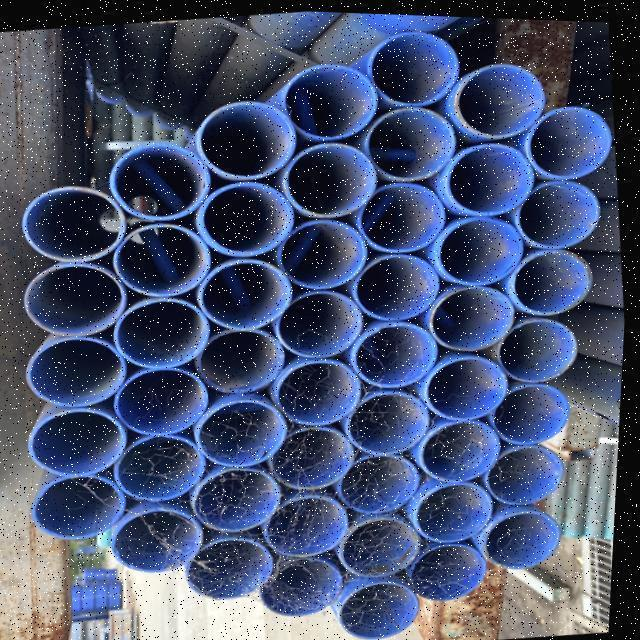pipe: (27, 256, 129, 340), (112, 137, 215, 219), (24, 183, 128, 264), (286, 53, 381, 139), (199, 96, 299, 177), (32, 335, 133, 409), (40, 464, 134, 543), (285, 139, 379, 217), (116, 297, 216, 369), (118, 361, 214, 435), (36, 408, 138, 477), (370, 28, 463, 103), (361, 179, 449, 258), (199, 393, 290, 469), (201, 179, 293, 254), (116, 222, 213, 293), (369, 104, 459, 178), (202, 259, 295, 330), (447, 139, 537, 212), (461, 61, 548, 134), (272, 416, 364, 485), (118, 506, 211, 574), (527, 101, 613, 174), (282, 216, 369, 288), (359, 315, 445, 387), (280, 286, 368, 356), (200, 327, 289, 395), (196, 466, 286, 533), (280, 351, 364, 422), (357, 251, 446, 318), (441, 211, 525, 281), (193, 535, 283, 600), (119, 434, 207, 500), (427, 351, 514, 417), (434, 279, 519, 346), (521, 175, 602, 245), (501, 312, 581, 381), (515, 245, 596, 313), (423, 414, 507, 478), (354, 389, 436, 453), (270, 492, 355, 553), (416, 476, 498, 539), (347, 513, 431, 574), (344, 452, 426, 514), (494, 378, 576, 440), (489, 441, 568, 505), (343, 580, 430, 638), (266, 555, 349, 614), (412, 539, 494, 597), (490, 505, 568, 565)
